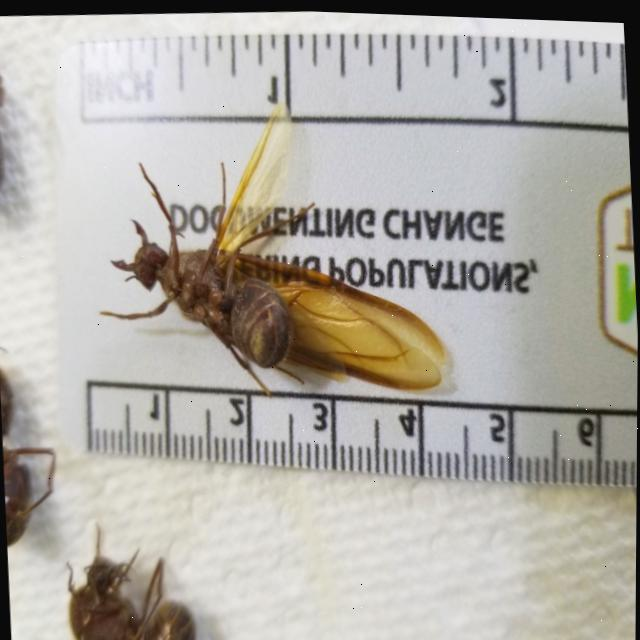Dead-Female-Alate: (89, 85, 449, 414)
